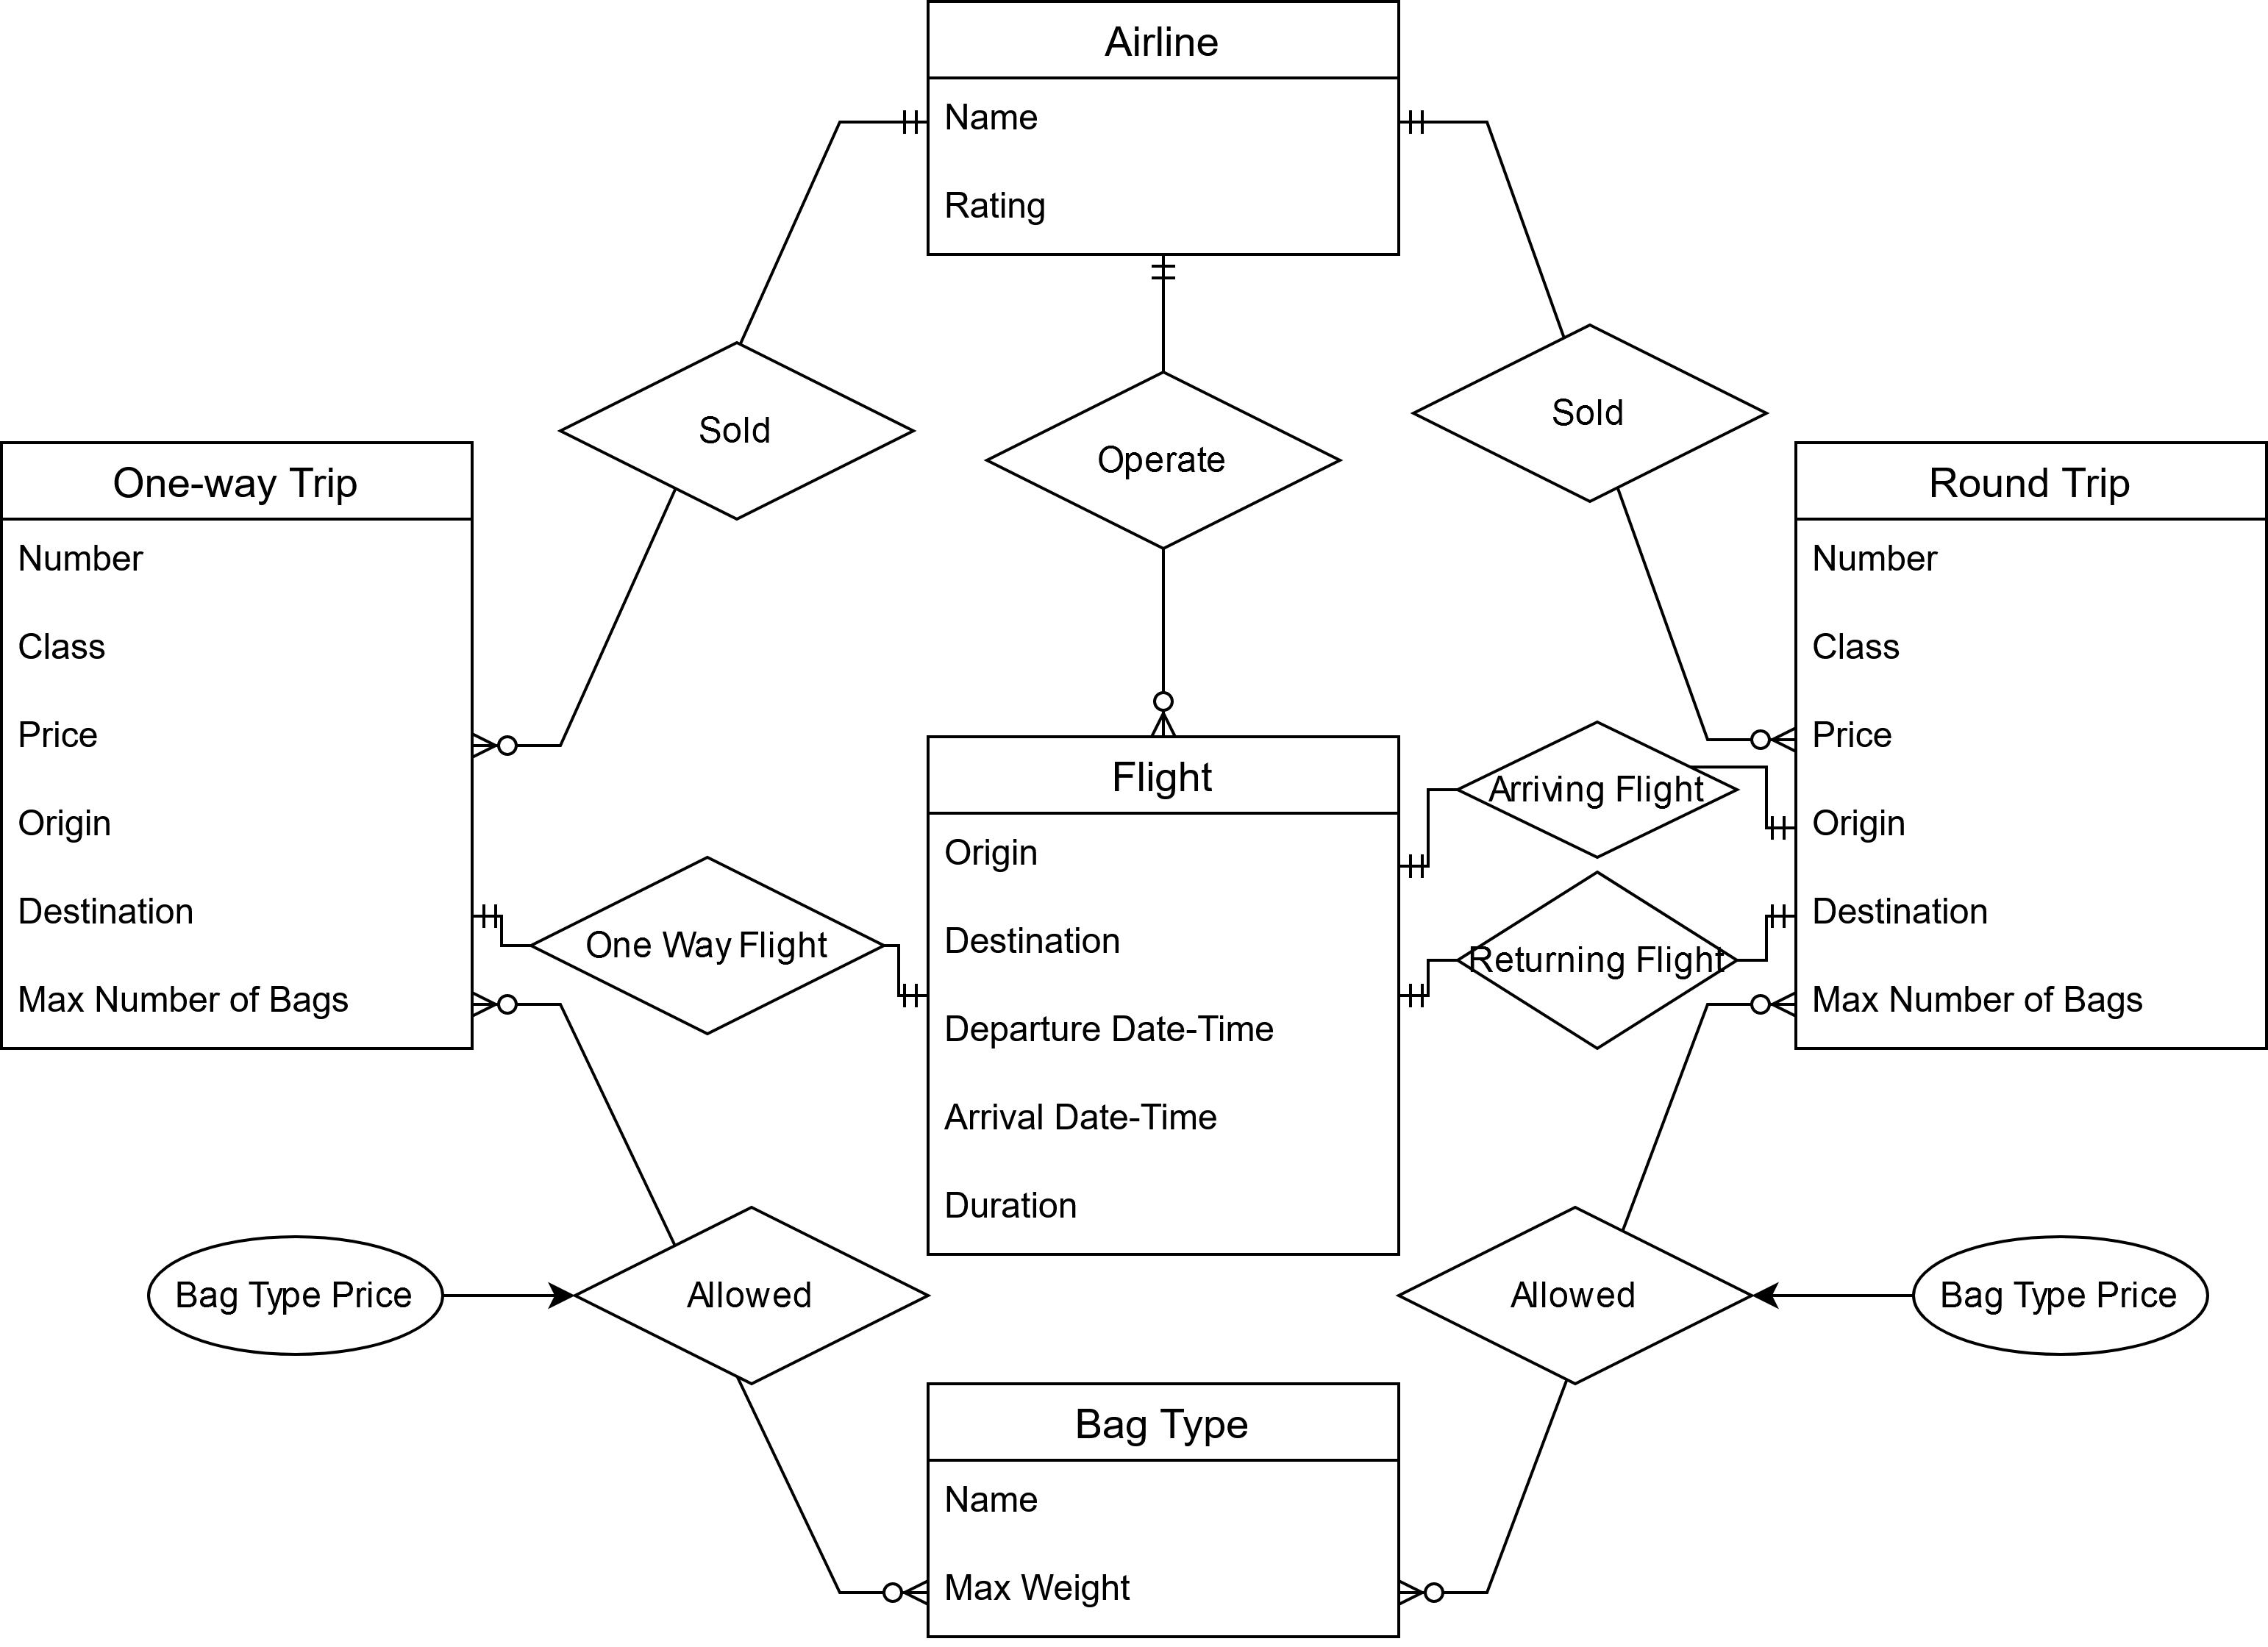attribute: (1914, 1230, 2199, 1360), (148, 1237, 442, 1358)
entity: (0, 438, 482, 1056), (1791, 436, 2268, 1056), (917, 730, 1400, 1258), (921, 0, 1410, 262), (923, 1380, 1400, 1647)
relationship: (1414, 322, 1768, 501), (562, 343, 914, 523), (991, 368, 1337, 545), (535, 855, 882, 1031), (1402, 1205, 1750, 1380), (581, 1209, 923, 1381), (1446, 867, 1745, 1052), (1460, 718, 1738, 857)
